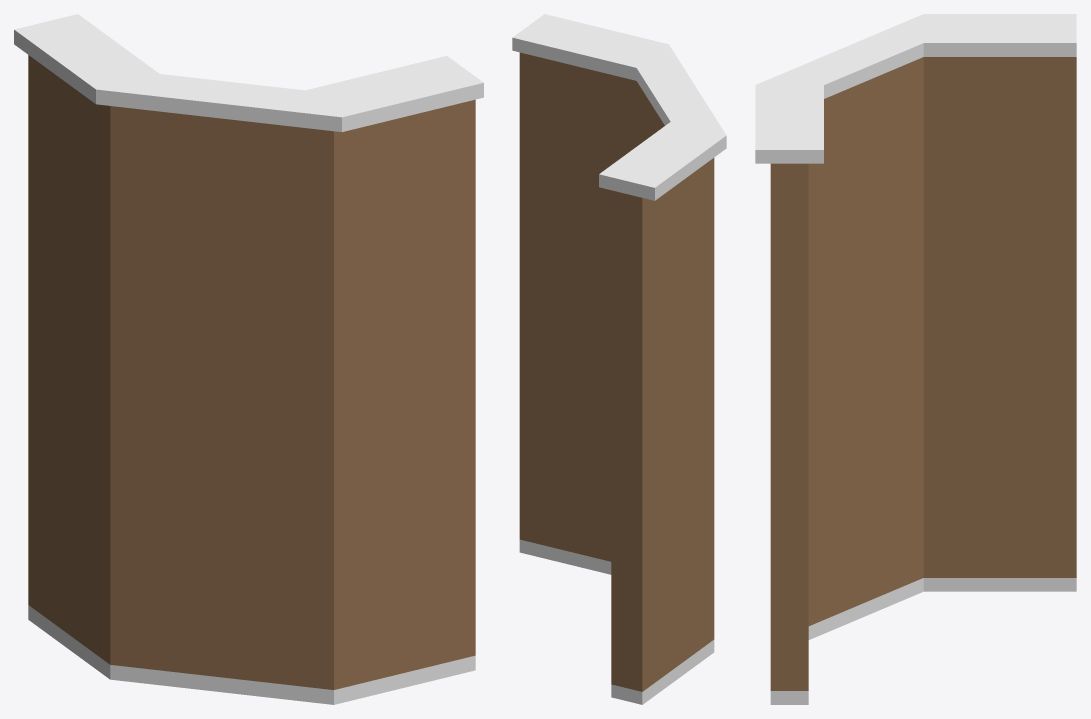
File: SM_4x4m_BasicWall_BevelCorner.fbx
3 views of the same model, side by side, from view 1: azimuth 30°, elevation 25°; view 2: azimuth 150°, elevation 25°; view 3: azimuth 270°, elevation 25° (orthographic). The views are drawn at different scales.
Parts seen in each view (by area): view 1: SM_4x4m_BasicWall_BevelCorner.001; view 2: SM_4x4m_BasicWall_BevelCorner.001; view 3: SM_4x4m_BasicWall_BevelCorner.001.
Boxes of the visible parts, x1,y1,x2,y2 form: SM_4x4m_BasicWall_BevelCorner.001: [14, 14, 483, 704]; SM_4x4m_BasicWall_BevelCorner.001: [512, 14, 726, 704]; SM_4x4m_BasicWall_BevelCorner.001: [755, 14, 1076, 704].
Bounding box in the file's own units: 210 × 210 × 400.
